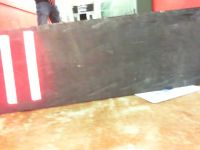switch: (22, 31, 42, 101), (1, 35, 17, 104)
